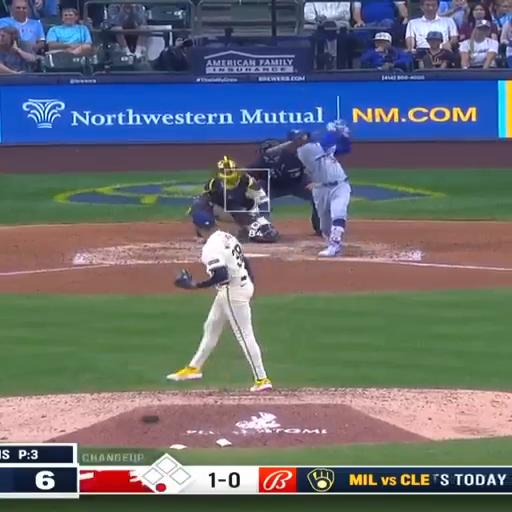bat: (265, 141, 292, 155)
